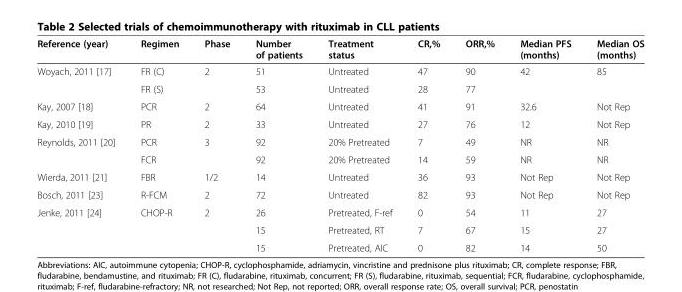table: (36, 37, 643, 252)
table column: (36, 37, 127, 252), (314, 37, 404, 252), (506, 37, 583, 252), (242, 37, 314, 252), (127, 37, 191, 252), (583, 37, 643, 252), (452, 37, 506, 252), (191, 37, 242, 252), (404, 37, 452, 252)
table column header: (36, 37, 643, 62)
table row: (36, 37, 643, 62), (36, 79, 643, 97), (36, 97, 643, 115), (36, 132, 643, 150), (36, 167, 643, 185), (36, 185, 643, 203), (36, 220, 643, 238), (36, 62, 643, 79), (36, 115, 643, 132), (36, 150, 643, 167), (36, 203, 643, 220), (36, 238, 643, 252)
table spanning cell: (36, 203, 127, 252), (36, 62, 127, 97), (36, 132, 127, 167)
